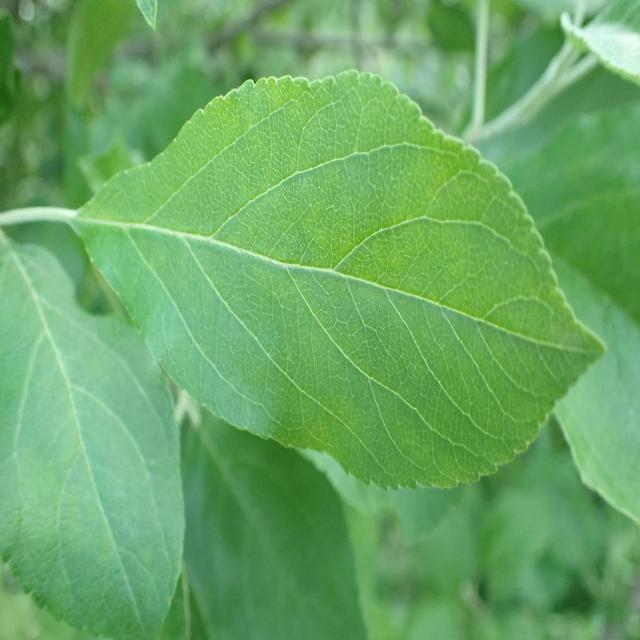healthy: (74, 70, 606, 492), (0, 226, 186, 639), (178, 409, 370, 640)
